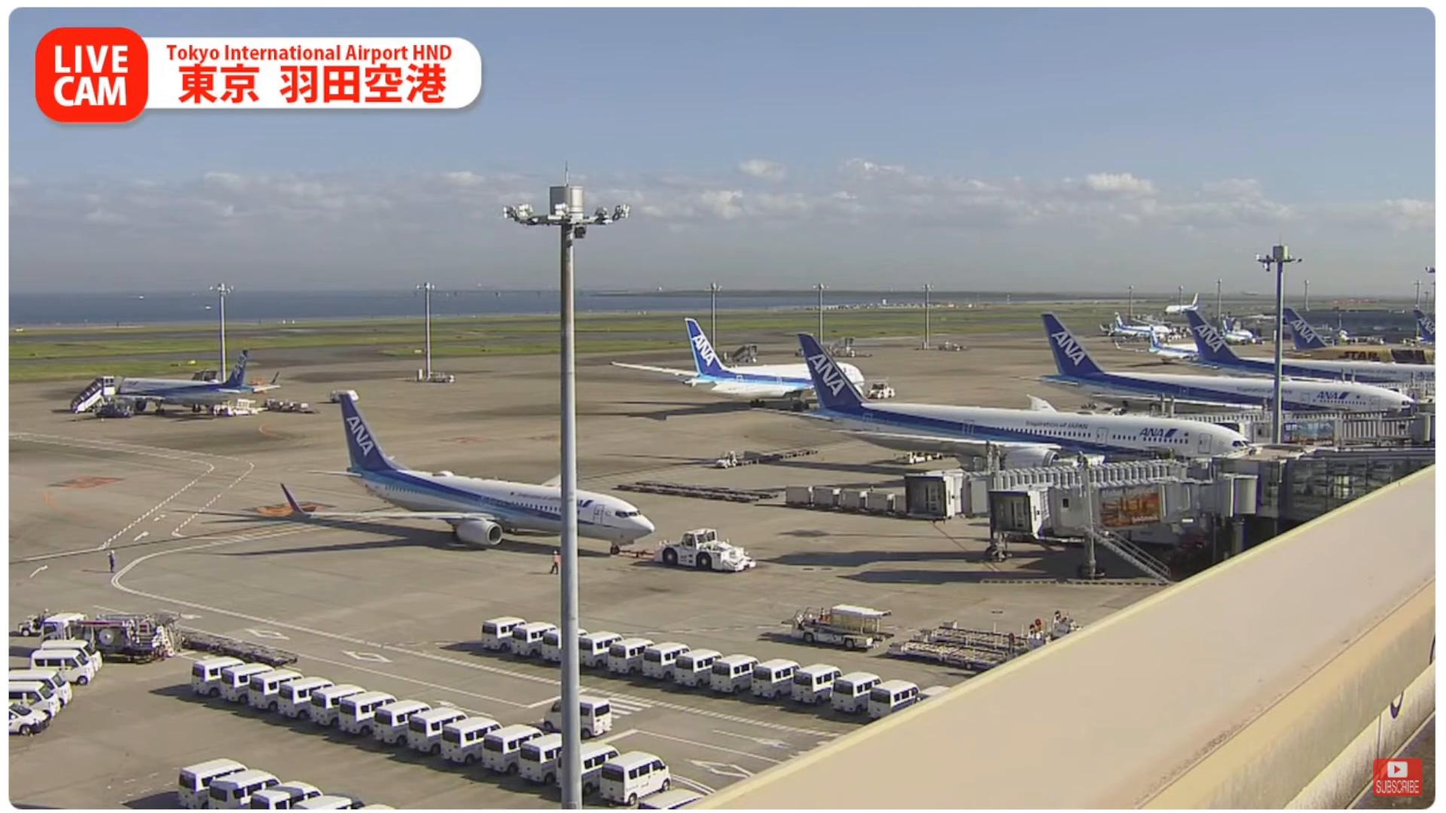APS: (652, 528, 756, 574)
Aerobridge: (904, 443, 1220, 528), (991, 451, 1256, 537)
Airplane: (278, 392, 656, 557)
JCPL: (918, 616, 1075, 656), (890, 639, 1018, 670)
Skyloader: (789, 603, 894, 653)
Window: (1290, 445, 1435, 519)
